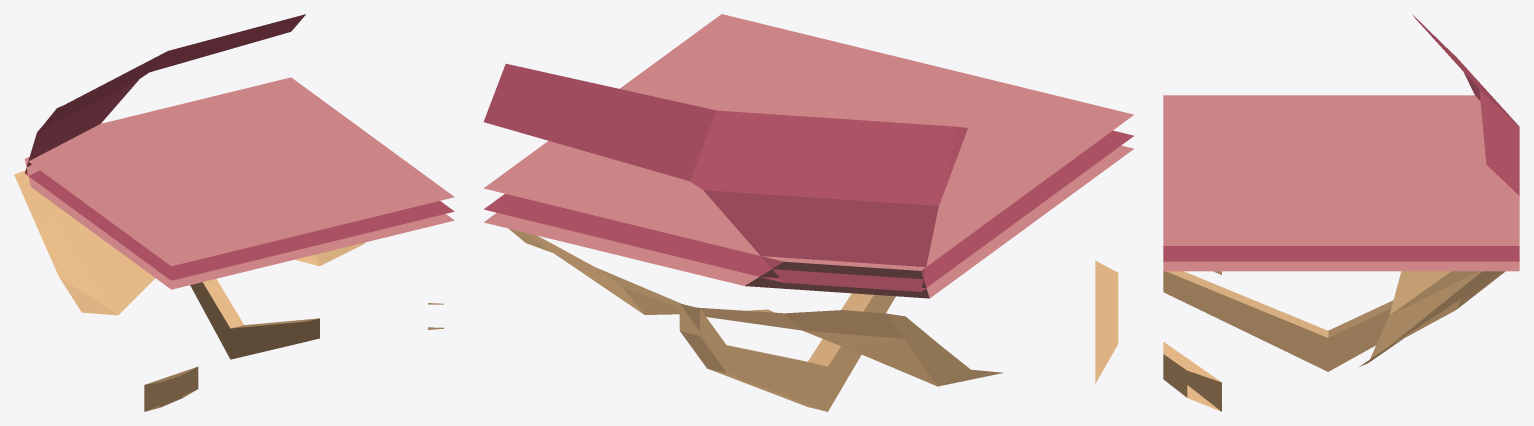
File: cell_078.obj
The picture shows the model from 3 angles, left to right: view 1: azimuth 30°, elevation 25°; view 2: azimuth 150°, elevation 25°; view 3: azimuth 270°, elevation 25°; orthographic projection. The views are drawn at different scales.
Size of the model in its own units: 1 by 0.8635 by 1.
